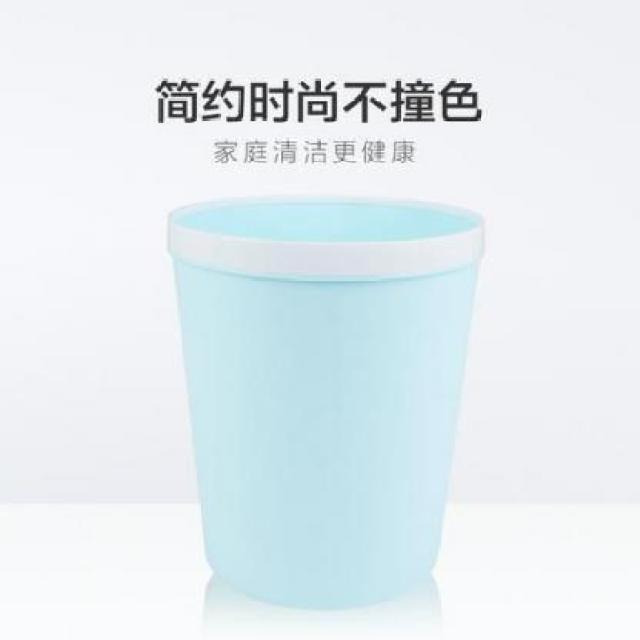dustbin: (160, 186, 490, 613)
